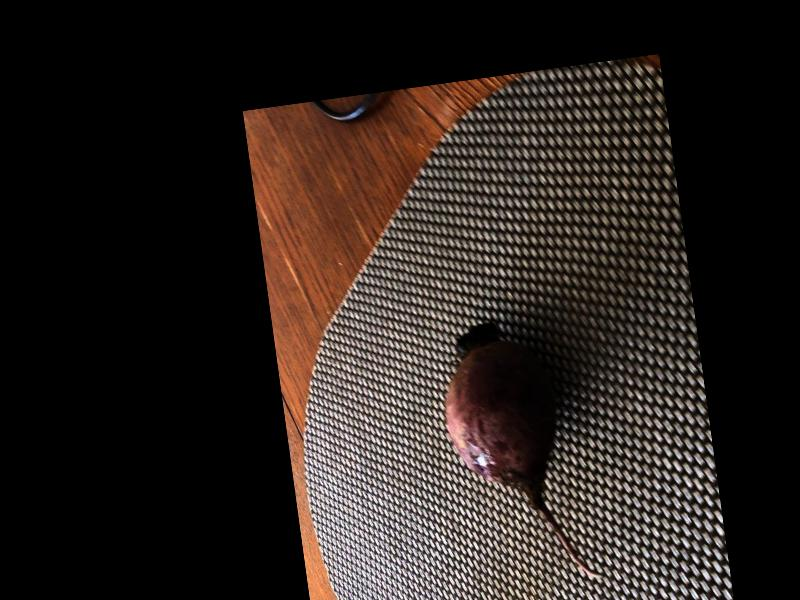Beet: (434, 310, 603, 596)
